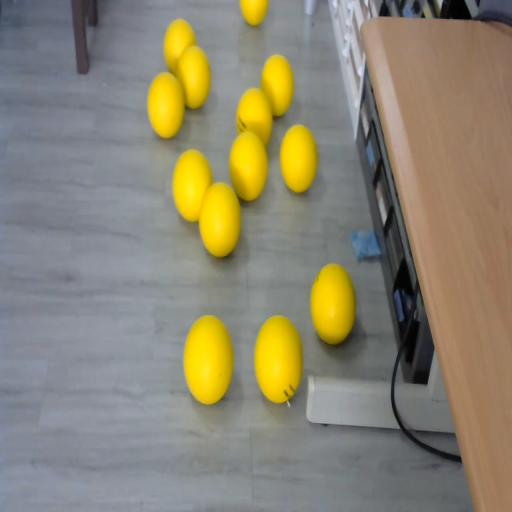FUEL: (182, 313, 234, 405), (253, 314, 303, 402), (309, 263, 355, 345), (198, 180, 242, 258), (228, 130, 269, 201), (279, 124, 317, 192), (147, 72, 185, 138), (260, 54, 294, 117), (163, 19, 196, 76), (240, 0, 268, 27)
